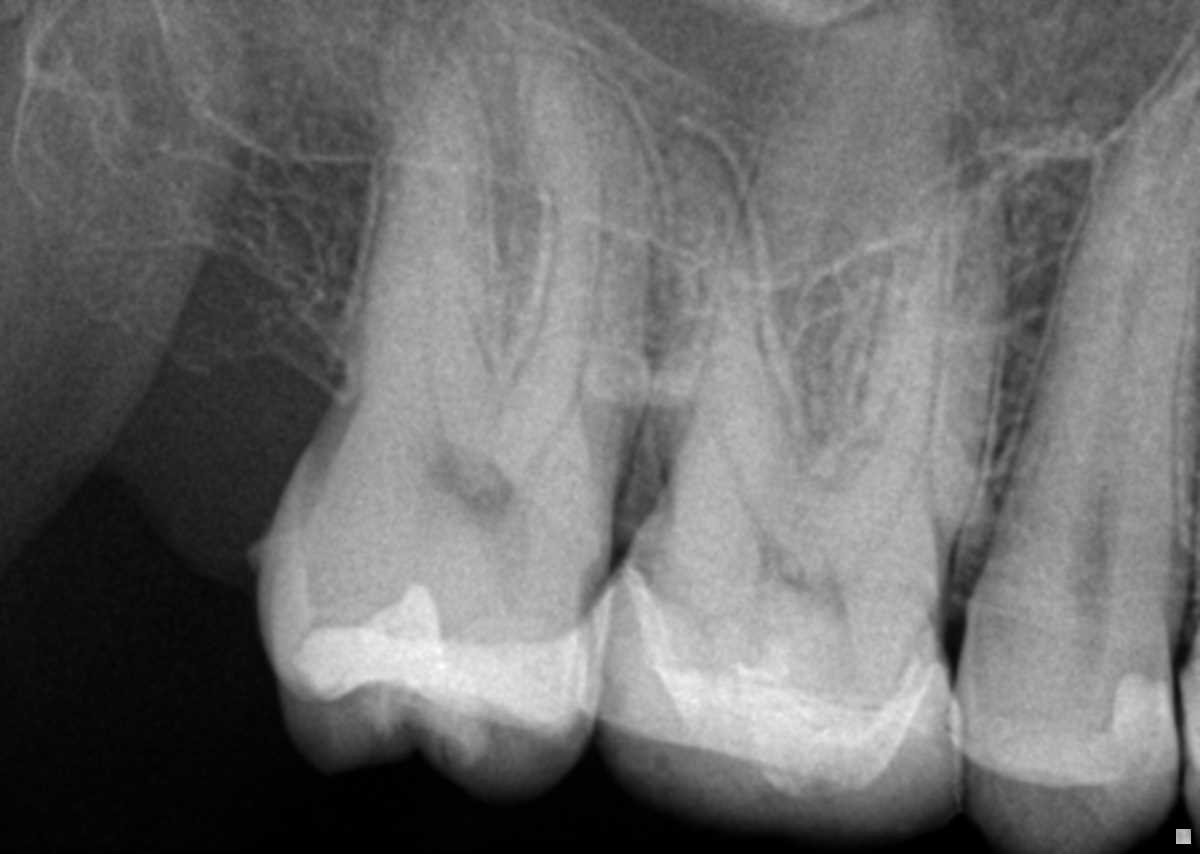Apical Lesion: (915, 151, 1017, 207)
Distal Canal: (697, 341, 760, 527), (423, 171, 445, 434)
Distal Root: (346, 18, 499, 425), (649, 132, 801, 499)
Main Canal: (1068, 120, 1190, 580)
Main Root: (988, 59, 1200, 596)
Mesial Canal: (511, 181, 609, 498), (856, 330, 942, 564)
Mesial Root: (506, 51, 661, 489), (833, 177, 1008, 540)
Palatal Root: (661, 0, 955, 529), (338, 0, 625, 472)
